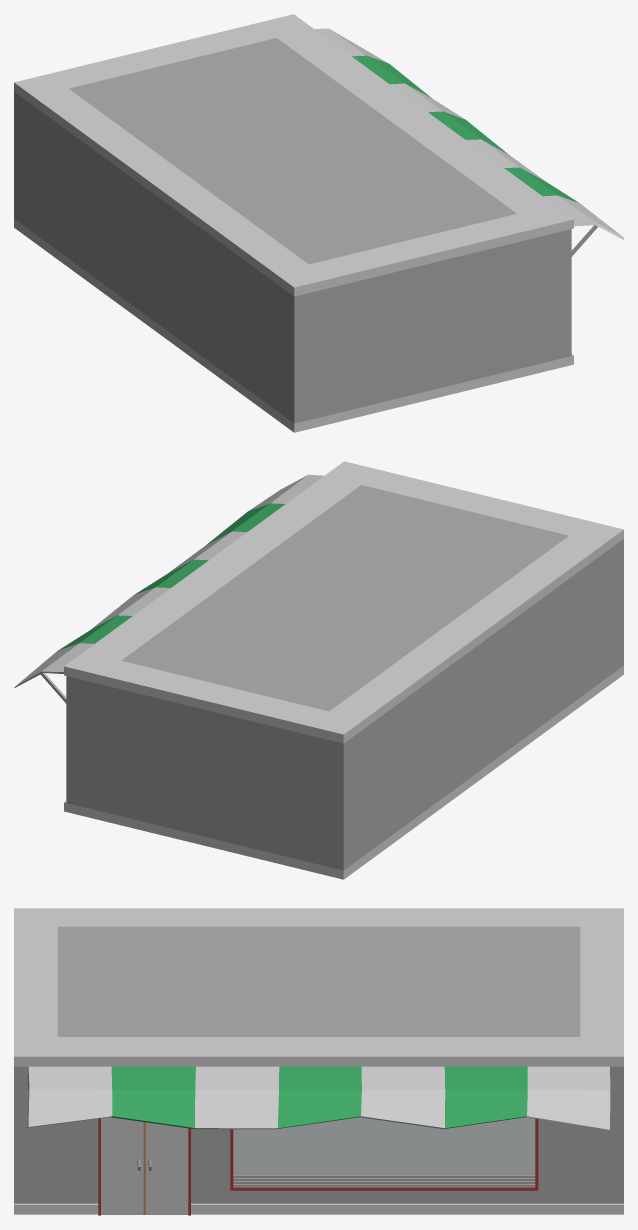
The model's file is Building_24.fbx.
3 renders of one model, top to bottom at view 1: azimuth 30°, elevation 25°; view 2: azimuth 150°, elevation 25°; view 3: azimuth 270°, elevation 25°, orthographic. The views are drawn at different scales.
Visible parts, largest first — view 1: pCube28; view 2: pCube28; view 3: pCube28.
Boxes of the visible parts, box(x1,y1,x2,y2) form: pCube28: box(14, 14, 623, 432); pCube28: box(14, 461, 623, 879); pCube28: box(14, 908, 623, 1215).
Bounding box in the file's own units: 9.7 × 4 × 14.
